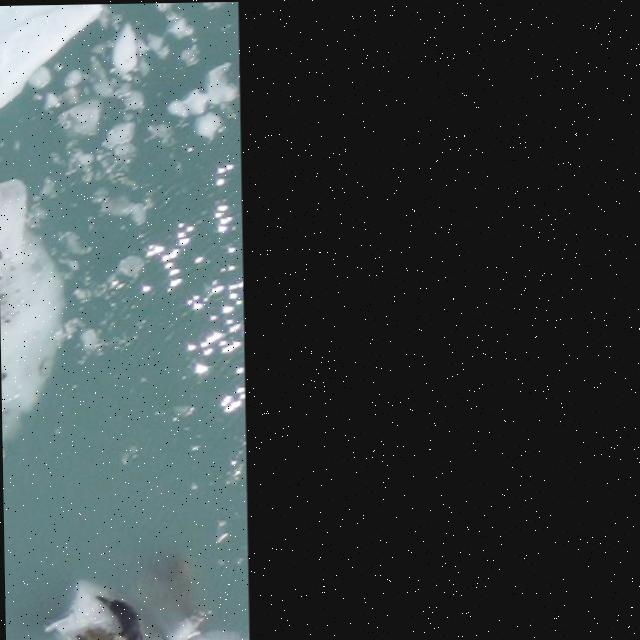seal: (97, 583, 152, 640), (77, 628, 128, 640)
